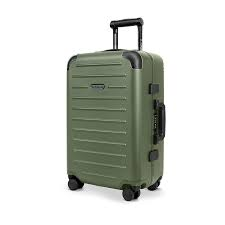suitcase: (64, 16, 167, 202)
